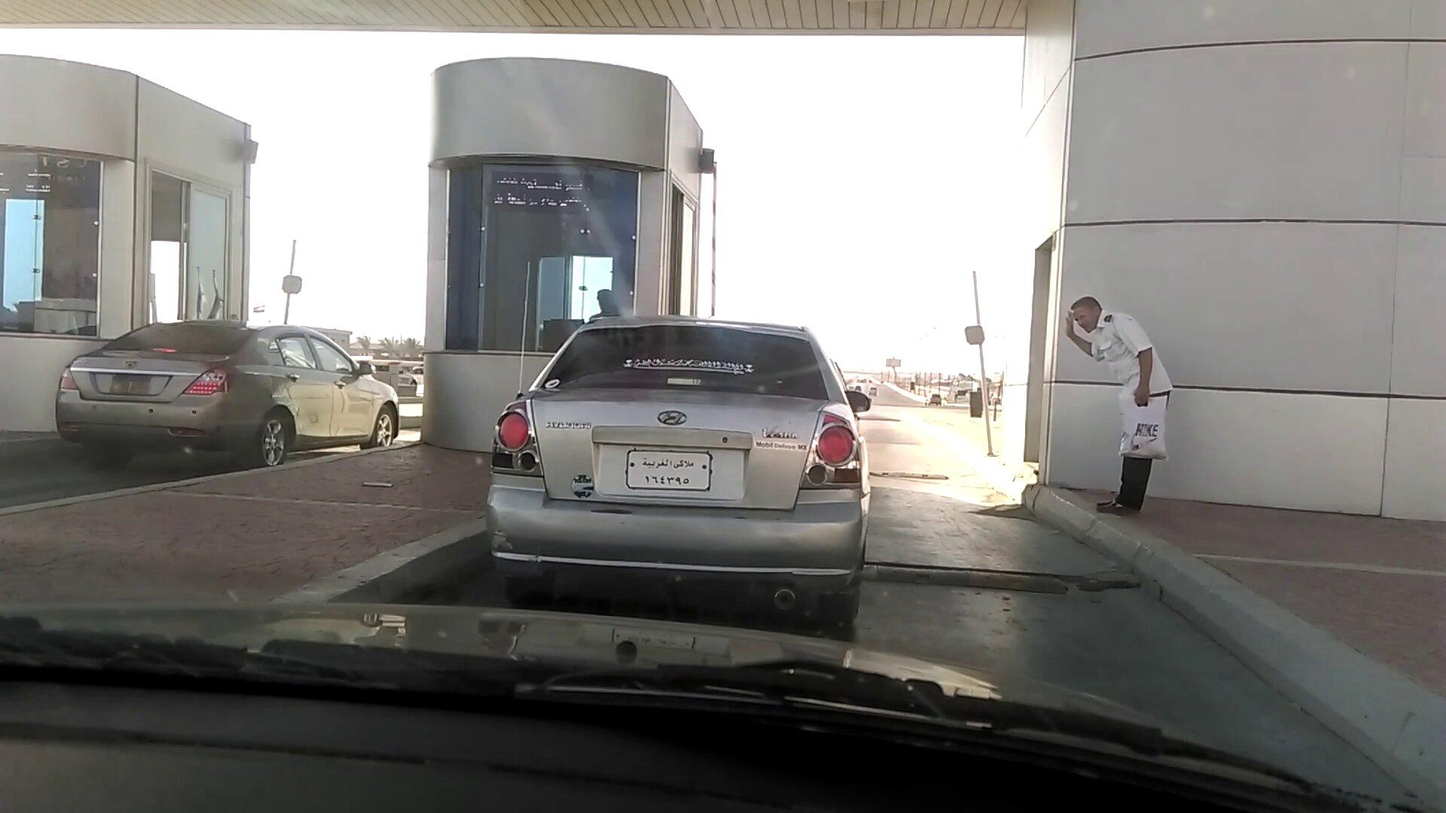Bump: (864, 553, 1135, 606)
